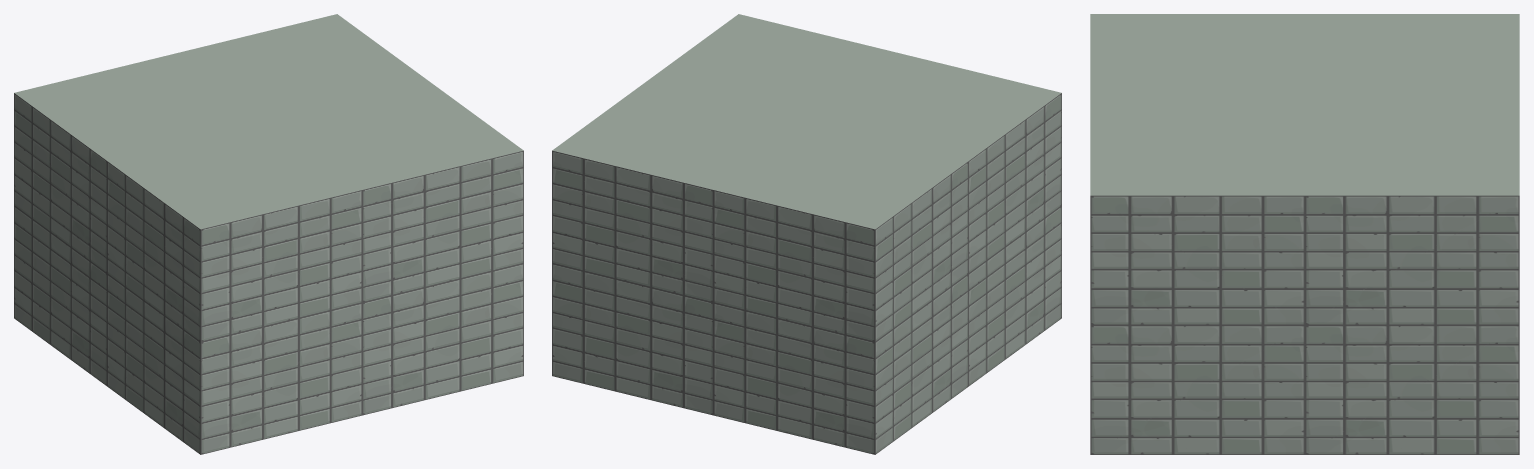
Rendered from Bock_A1.fbx.
3 renders of one model, left to right at view 1: azimuth 30°, elevation 25°; view 2: azimuth 150°, elevation 25°; view 3: azimuth 270°, elevation 25°, orthographic. The views are drawn at different scales.
Visible parts, largest first — view 1: Bock_A1; view 2: Bock_A1; view 3: Bock_A1.
Boxes of the visible parts, box(x1,y1,x2,y2) form: Bock_A1: box(14, 14, 523, 454); Bock_A1: box(552, 14, 1061, 454); Bock_A1: box(1090, 14, 1519, 454).
Bounding box in the file's own units: 600 × 400 × 600.
1 material, 1 textured.
